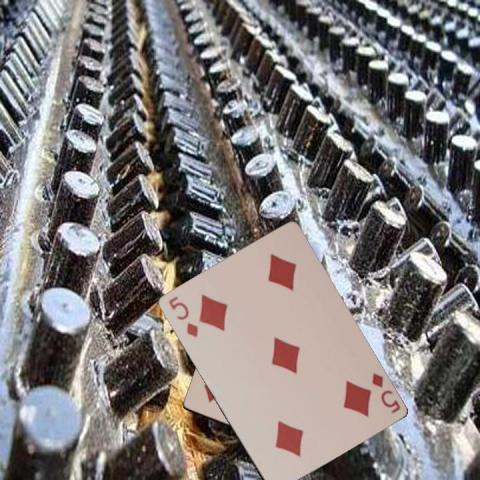5d: (166, 293, 199, 339), (368, 369, 401, 415)
